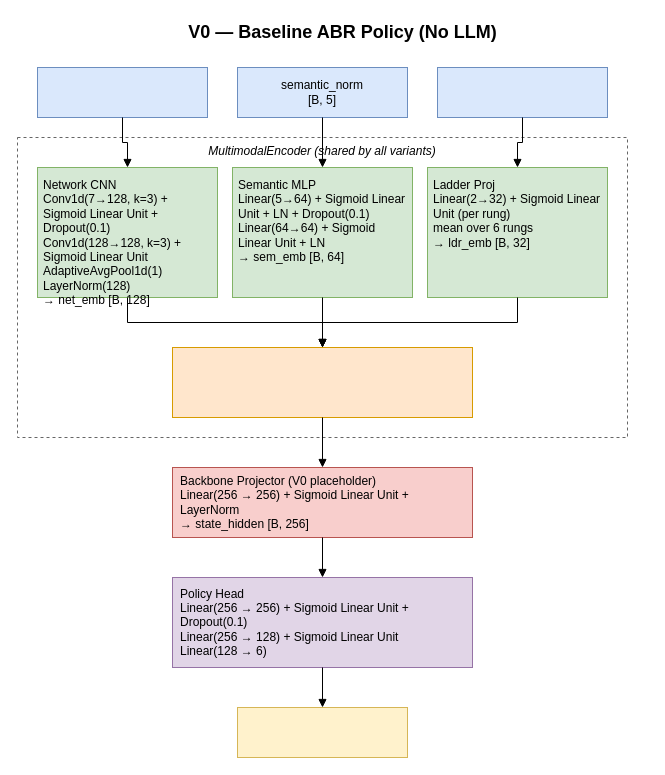
Image size: 665x775. Some labels were removed from this diagram. The shapes that lost their labels are listed below. From the top down, each one's centre as x and y in pixels, then its label:
point (122, 92): network_norm [B, 7]
point (522, 92): ladder_context [B, 6, 2]
point (322, 382): Concat [B, 224] Linear(224 → 256) → e_fused [B, 256]
point (322, 732): logits [B, 6] (6-rung bitrate ladder)
